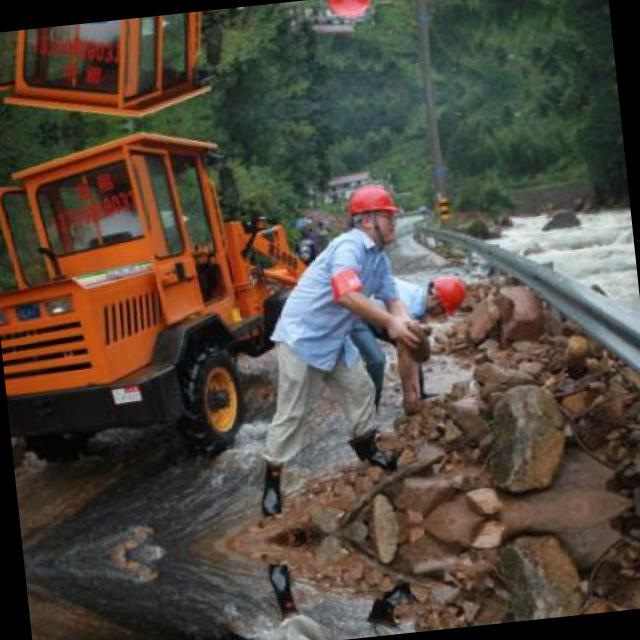helmet: (341, 177, 406, 244), (416, 267, 472, 319), (320, 0, 384, 26)
